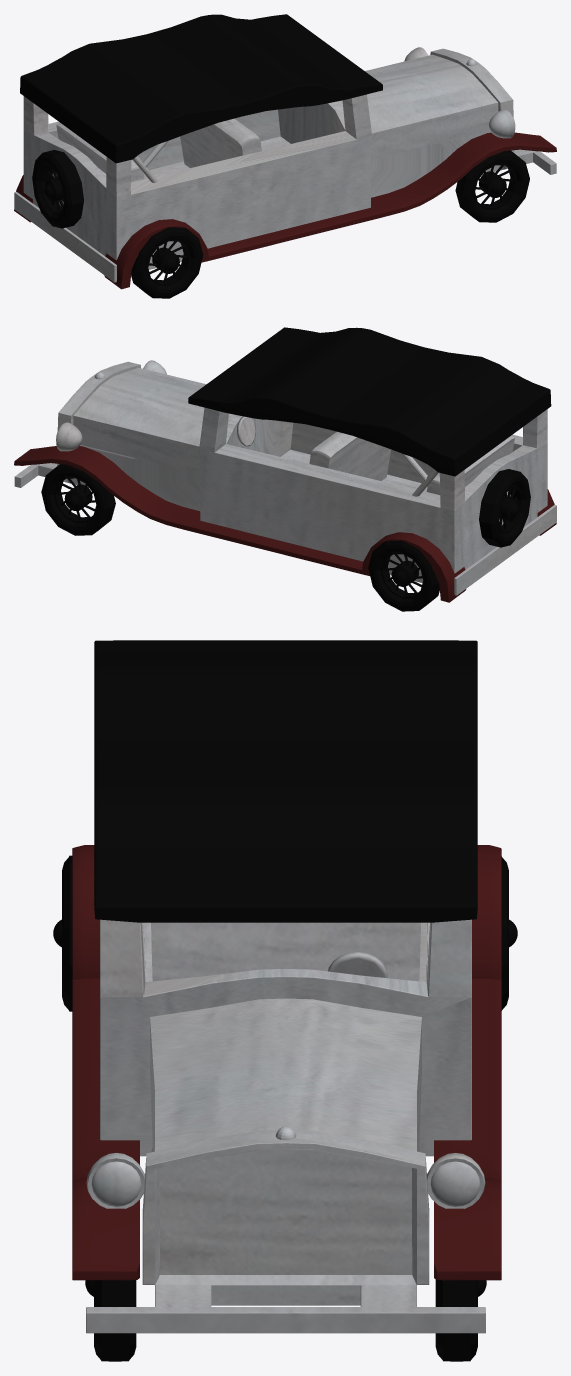
The model's file is WoodenClassicCar.0027.fbx.
3 renders of one model, top to bottom at view 1: azimuth 30°, elevation 25°; view 2: azimuth 150°, elevation 25°; view 3: azimuth 270°, elevation 25°, orthographic. The views are drawn at different scales.
Visible parts, largest first — view 1: pCube8; view 2: pCube8; view 3: pCube8.
Part boxes in pixels (x1=…): pCube8: x1=14, y1=14, x2=556, y2=298; pCube8: x1=14, y1=327, x2=556, y2=611; pCube8: x1=53, y1=640, x2=517, y2=1361.
Bounding box in the file's own units: 34.77 × 13.59 × 15.29.
